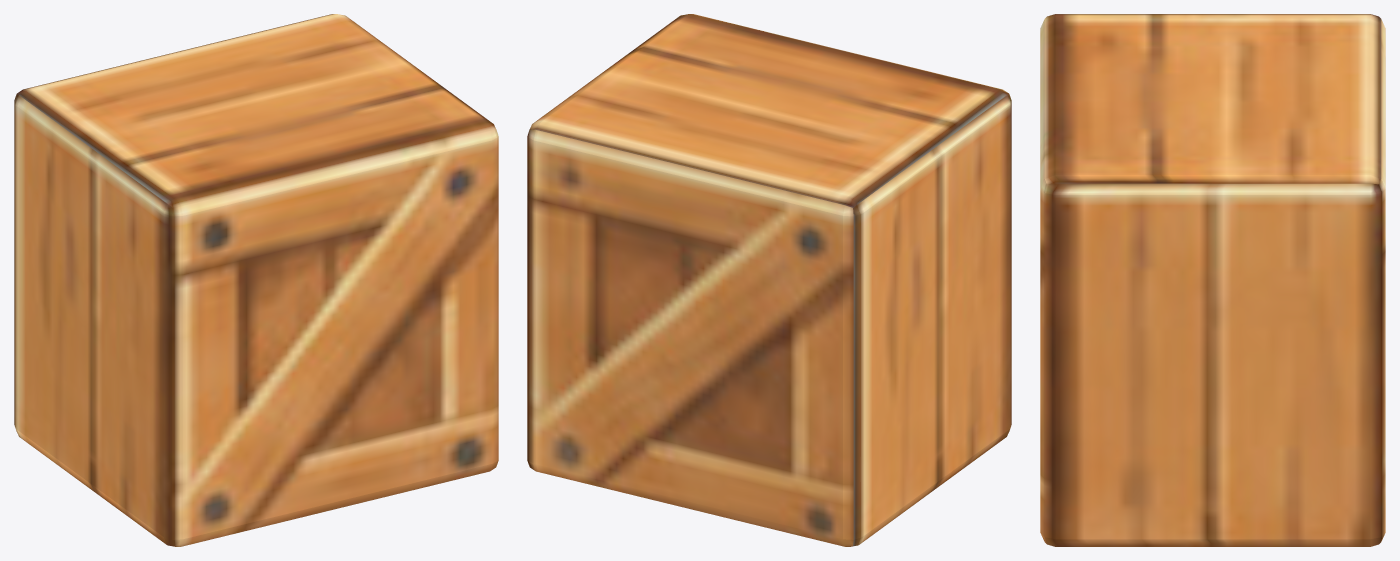
The model's file is crate.glb.
3 renders of one model, left to right at view 1: azimuth 30°, elevation 25°; view 2: azimuth 150°, elevation 25°; view 3: azimuth 270°, elevation 25°, orthographic. The views are drawn at different scales.
Visible parts, largest first — view 1: crate; view 2: crate; view 3: crate.
Part boxes in pixels (x1,y1,x2,y2): crate: (14,14,498,546); crate: (527,14,1011,546); crate: (1040,14,1385,546).
Bounding box in the file's own units: 0.95 × 0.95 × 0.8.
1 material, 1 textured.
